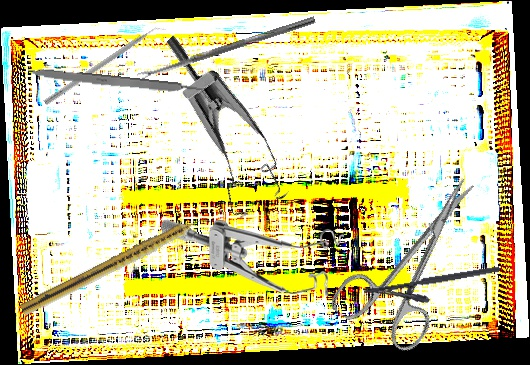Chopper: (43, 21, 168, 112)
Handpiece: (19, 209, 213, 321)
Iris Scissors: (327, 156, 511, 361)
Needle Holder: (362, 265, 504, 313)
Scalpel Handle: (26, 66, 205, 98)
Speculum: (111, 34, 316, 232), (161, 215, 345, 300)
Surgical Spoon: (136, 15, 316, 81)
